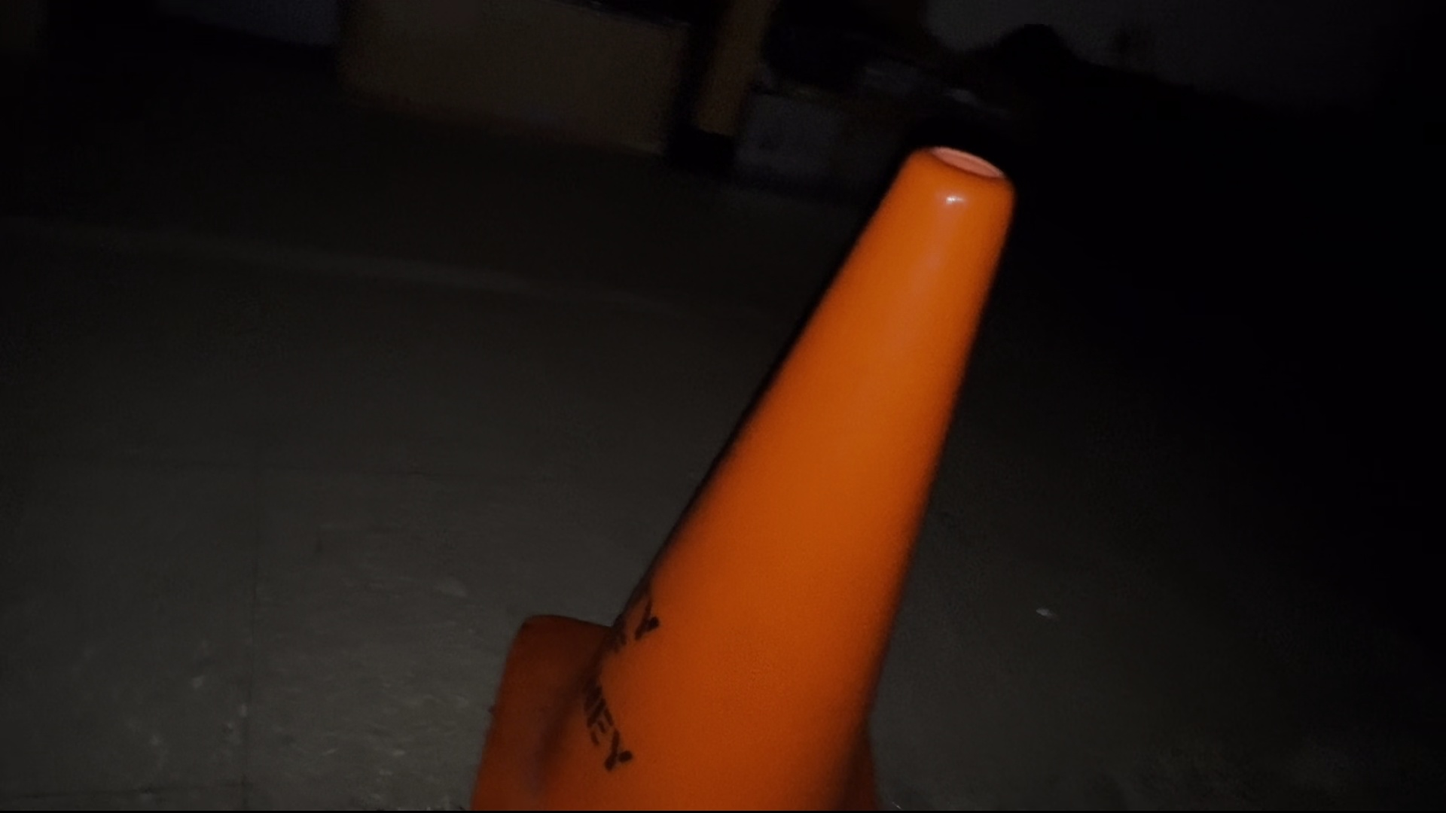traffic_cone: (469, 143, 1016, 811)
